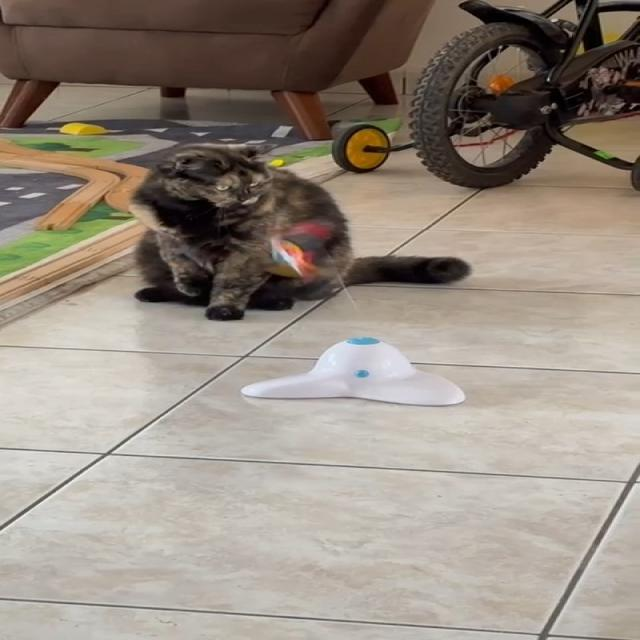authorized: (127, 141, 470, 321)
